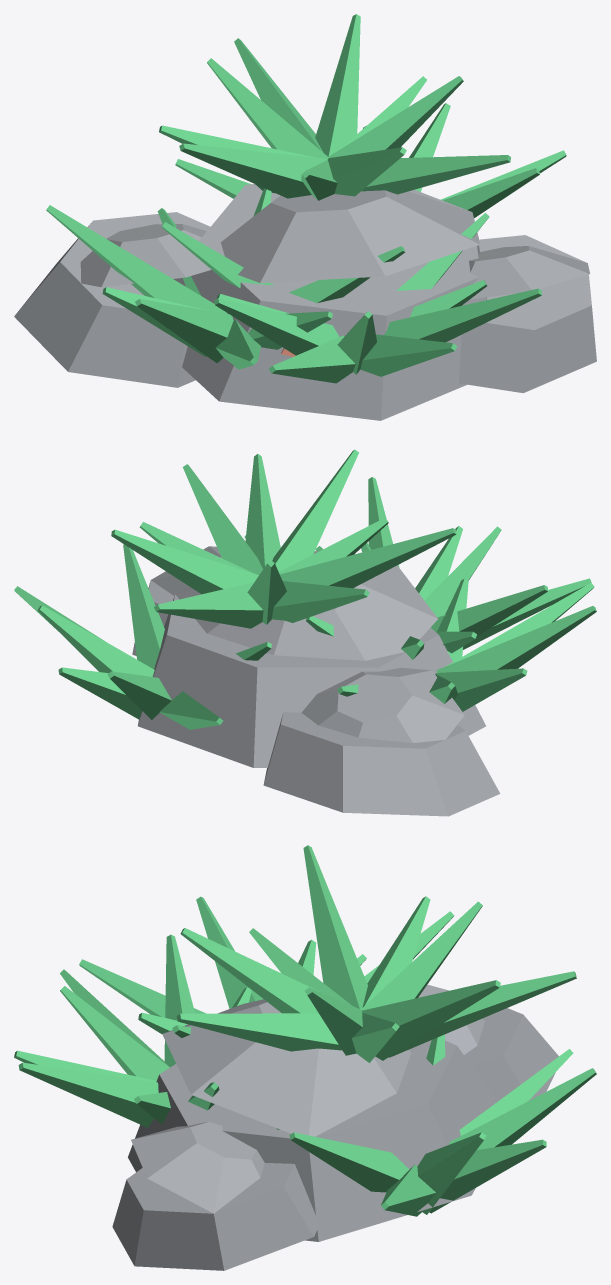
Rendered from SM_Trop_RockCluster_Bush.fbx.
3 views of the same model, one above another, from view 1: azimuth 30°, elevation 25°; view 2: azimuth 150°, elevation 25°; view 3: azimuth 270°, elevation 25° (orthographic). The views are drawn at different scales.
Visible parts, largest first — view 1: SM_Trop_RockCluster_Bush; view 2: SM_Trop_RockCluster_Bush; view 3: SM_Trop_RockCluster_Bush.
Boxes of the visible parts, left/top/right/bottom form: SM_Trop_RockCluster_Bush: left=14, top=14, right=596, bottom=420; SM_Trop_RockCluster_Bush: left=14, top=449, right=596, bottom=816; SM_Trop_RockCluster_Bush: left=14, top=845, right=596, bottom=1270.
Bounding box in the file's own units: 599 × 555 × 268.
